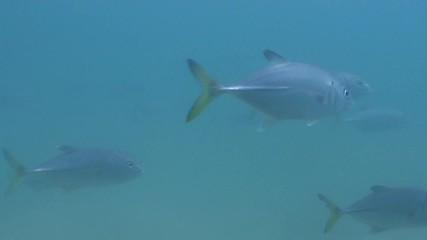Carangidae -Jacks-: (176, 41, 354, 139), (0, 129, 147, 198), (314, 178, 423, 238)
